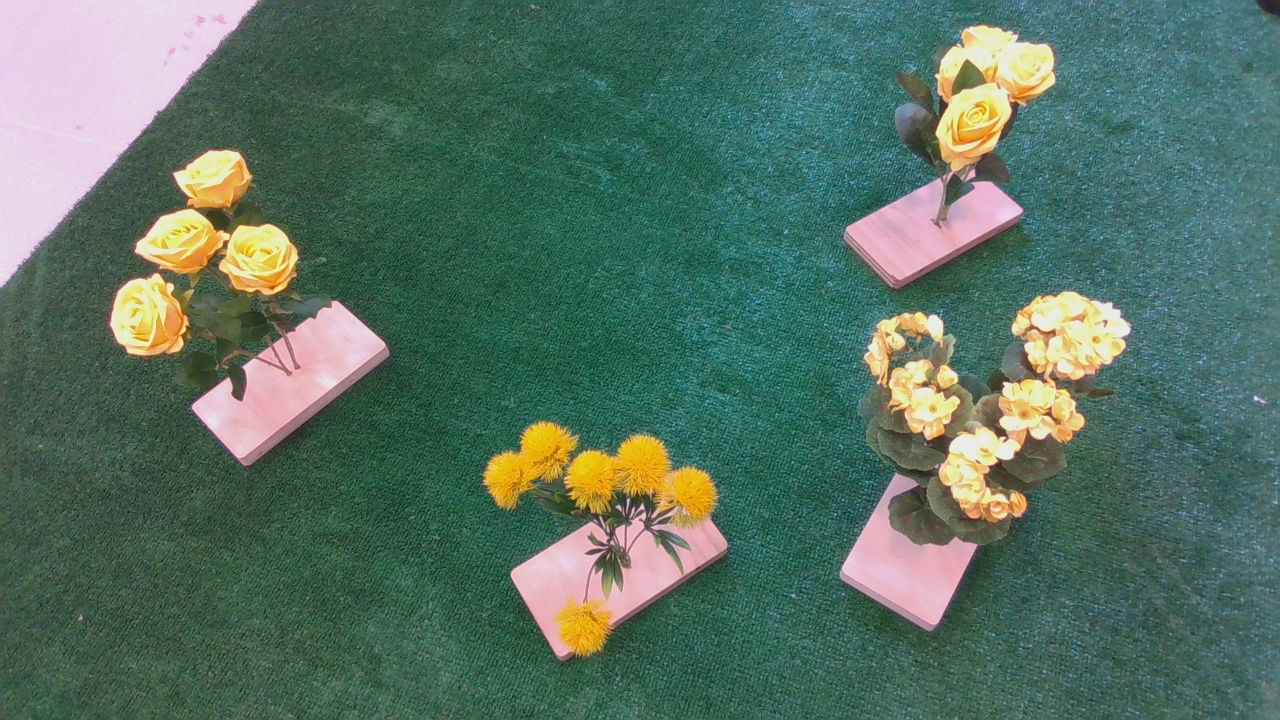dandelion: (471, 429, 727, 668)
geranium: (831, 294, 1144, 575)
rose: (92, 149, 331, 383), (892, 10, 1065, 215)
